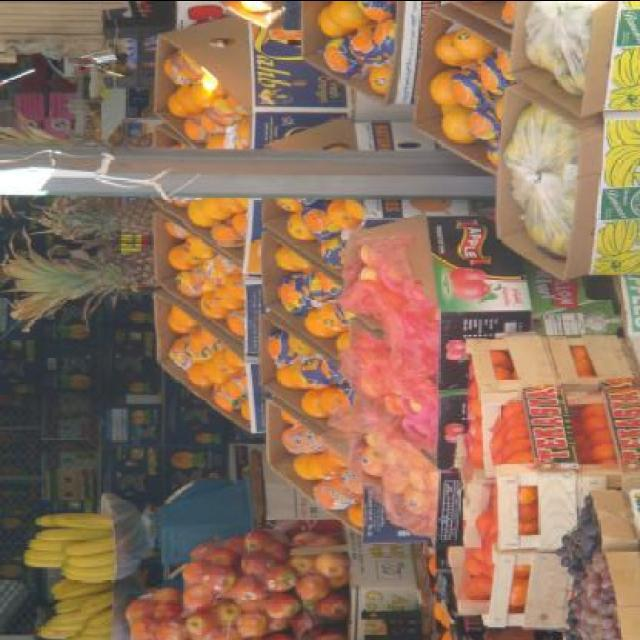Pineapple: (0, 223, 155, 332), (16, 195, 150, 243)
